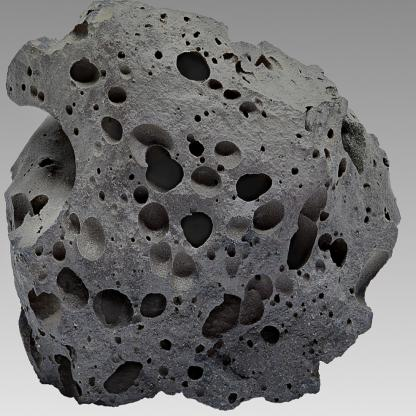Igneous_Basalt: (1, 4, 404, 406)
